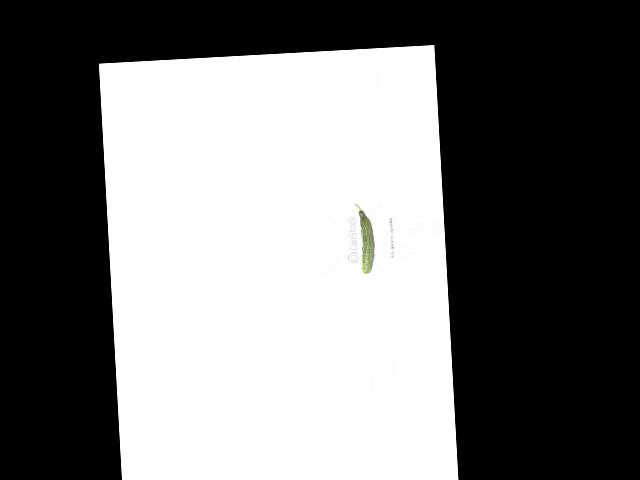cucumber: (355, 202, 376, 273)
